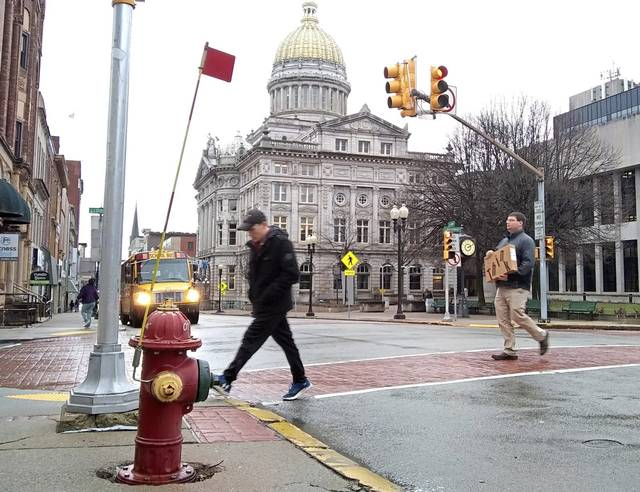firehdyrant: (120, 305, 223, 480)
trafficlight: (427, 60, 459, 114)
